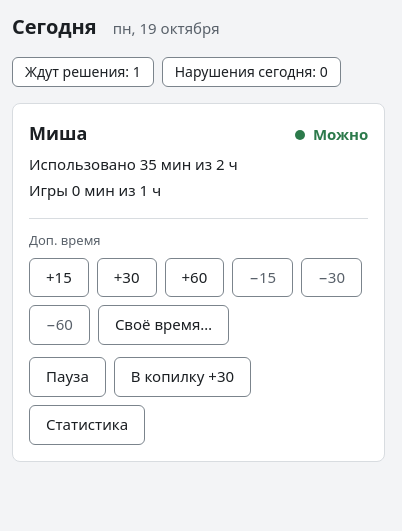
it: Today: добавить время › сбой: простыми словами у карточки, кнопки снова доступны
Click the button "+30" at (127, 278), box [97,258,157,298]
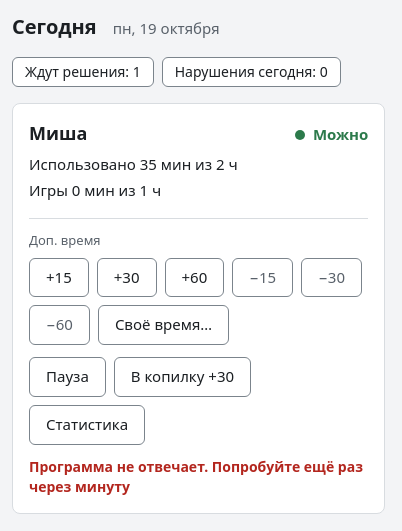
Expected: the message reads "Программа не отвечает. Попробуйте ещё раз через минуту", [29,457,363,496]
